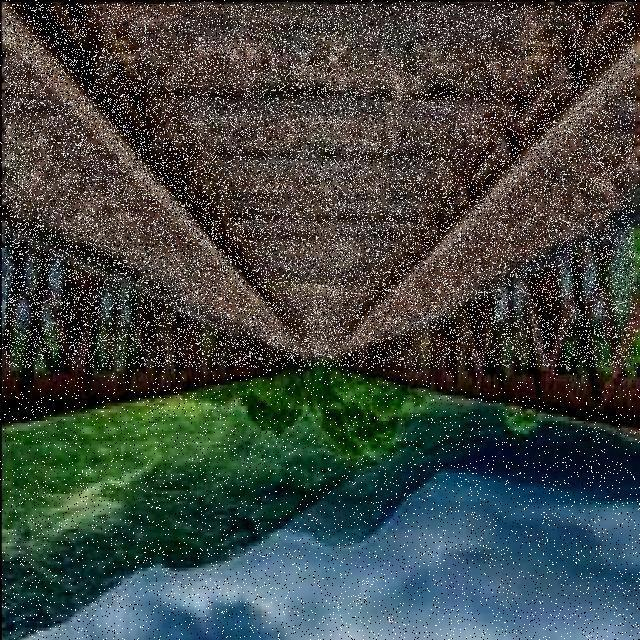rail: (6, 5, 635, 367)
